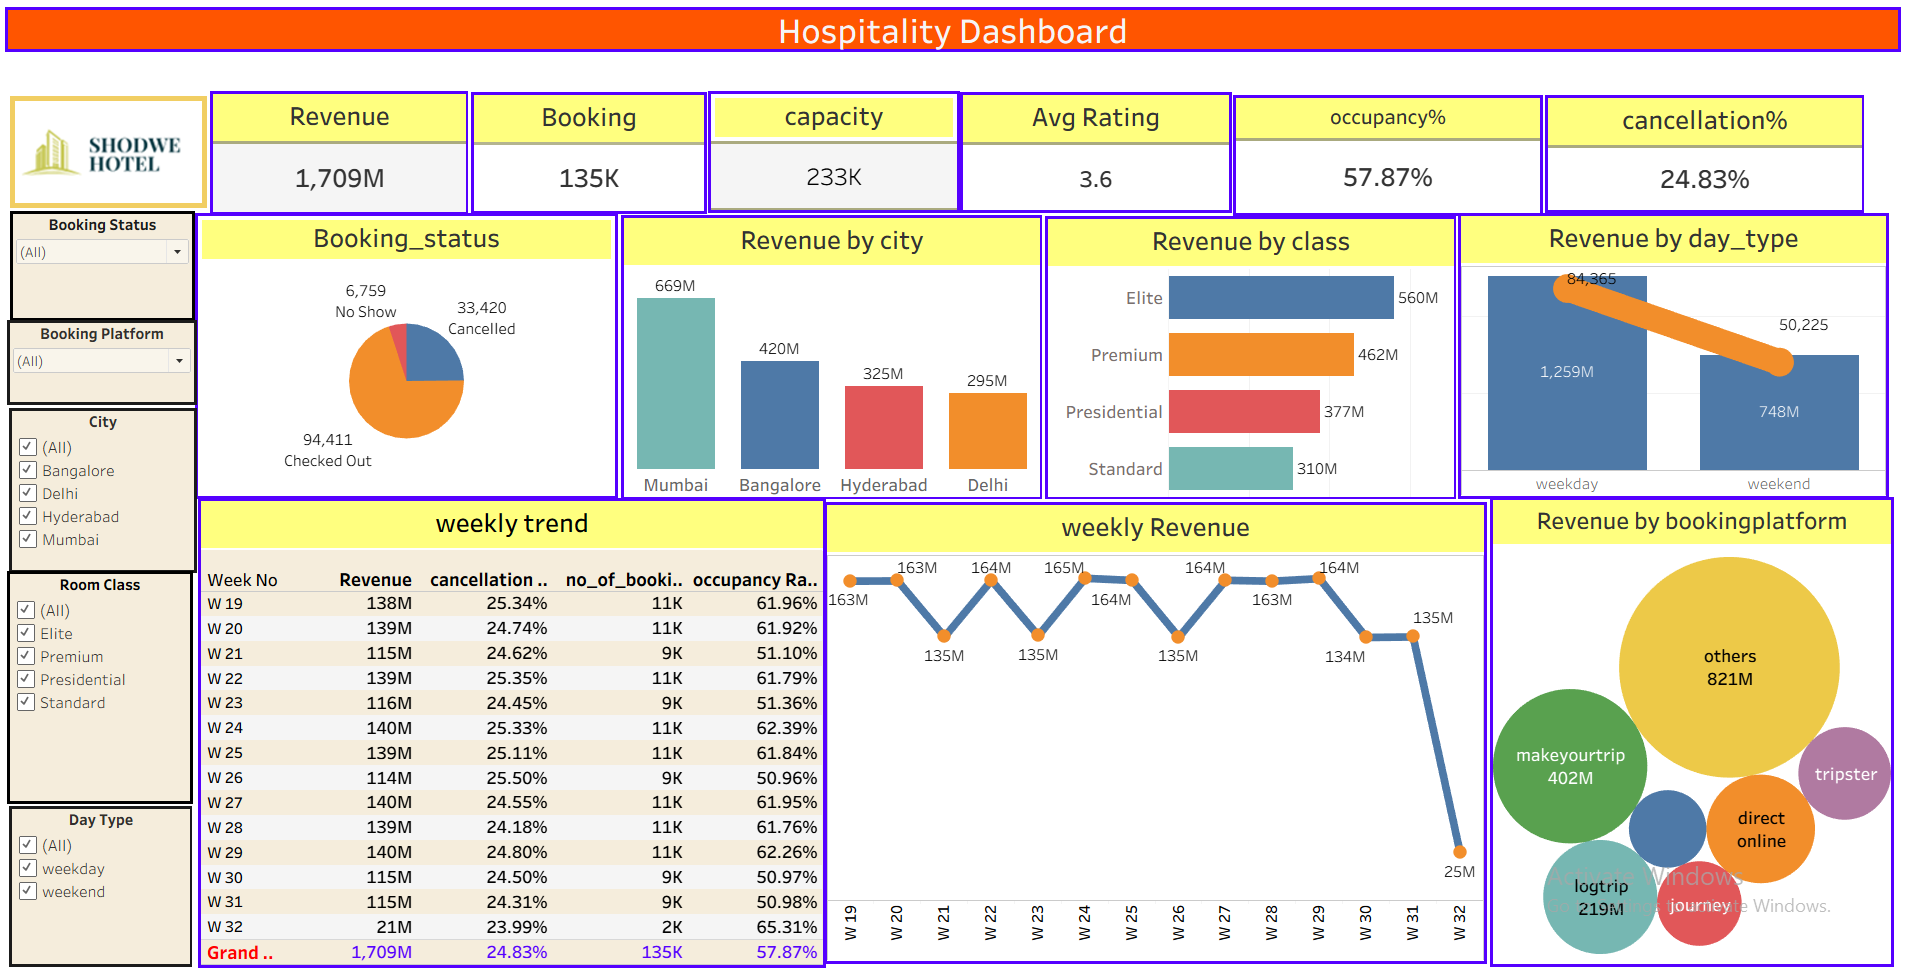

Layout of this report page (visuals, bound fields, positions):
{"tool":"tableau","page":{"name":"Dashboard 1","canvas":[1000,1000],"units":"permille","ordinal":0},"visuals":[{"type":"title","box":[5,10.7,990,84.5]},{"type":"image","box":[5,95.2,990,894.1]},{"type":"worksheet","title":"Revenue","mark":"Text","box":[112.8,96.5,134.7,124.7]},{"type":"worksheet","title":"capacity","mark":"Text","box":[372.4,96.5,131.2,123.3]},{"type":"worksheet","title":"Booking","mark":"Text","box":[249.1,97.9,123,123.3]},{"type":"worksheet","title":"Avg Rating","mark":"Text","box":[503.5,97.9,141.8,122]},{"type":"worksheet","title":"occupancy%","mark":"Automatic","box":[646,100.5,161.5,122]},{"type":"worksheet","title":"cancellation%","mark":"Text","box":[808.2,100.5,166.4,119.3]},{"type":"image","param":"Image/Picture1.png","box":[8.8,101.9,102.5,112.6]},{"type":"filter","title":"Booking_status","param":"[federated.0kp501o1j3tpmw1h6ecsv15nl3r8].[none:booking_status:nk]","box":[8.8,217.2,96.2,111.3]},{"type":"worksheet","title":"Booking_status","mark":"Pie","box":[105.4,219.8,220.2,288.2]},{"type":"worksheet","title":"Revenue by day_type","mark":"Bar","rows":["revenue_generated","booking_id"],"cols":["day_type"],"box":[762.9,219.8,224.6,288.2]},{"type":"worksheet","title":"Revenue by city","mark":"Automatic","rows":["revenue_realized"],"cols":["city"],"box":[326.9,221.2,219.6,286.9]},{"type":"worksheet","title":"Revenue by class","mark":"Automatic","rows":["room_class"],"cols":["revenue_realized"],"box":[547.7,222.5,214.6,285.5]},{"type":"filter","title":"Revenue by bookingplatform","param":"[federated.0kp501o1j3tpmw1h6ecsv15nl3r8].[none:booking_platform:nk]","box":[7.5,327.1,98.8,85.8]},{"type":"filter","title":"Revenue by city","param":"[federated.0kp501o1j3tpmw1h6ecsv15nl3r8].[none:city:nk]","box":[8.1,415.6,98.1,166.2]},{"type":"worksheet","title":"Revenue by bookingplatform","mark":"Circle","box":[779.8,505.4,210.3,473.2]},{"type":"worksheet","title":"weekly trend","mark":"Automatic","rows":["week no"],"box":[106.7,506.7,326.9,473.2]},{"type":"worksheet","title":"weekly Revenue","mark":"Line","rows":["revenue_generated","revenue_generated"],"cols":["week no"],"box":[433,510.7,345.5,465.2]},{"type":"filter","title":"Revenue by class","param":"[federated.0kp501o1j3tpmw1h6ecsv15nl3r8].[none:room_class:nk]","box":[7.5,580.4,96.9,234.6]},{"type":"filter","title":"Revenue by day_type","param":"[federated.0kp501o1j3tpmw1h6ecsv15nl3r8].[none:day_type:nk]","box":[8.1,816.4,95.6,162.2]}]}

Visuals, with their boxes on the dashboard's canvas, which has no fixed pixel size, in thousandths of its width and height (x1, y1, x2, y2). These are canvas units, not pixel positions in the 1905x973 screenshot, which may show the page scaled, cropped or inside an application window:
title: bbox=[5, 11, 995, 95]
image: bbox=[5, 95, 995, 989]
"Revenue" worksheet (Text marks): bbox=[113, 96, 248, 221]
"capacity" worksheet (Text marks): bbox=[372, 96, 504, 220]
"Booking" worksheet (Text marks): bbox=[249, 98, 372, 221]
"Avg Rating" worksheet (Text marks): bbox=[504, 98, 645, 220]
"occupancy%" worksheet: bbox=[646, 100, 808, 222]
"cancellation%" worksheet (Text marks): bbox=[808, 100, 975, 220]
image: bbox=[9, 102, 111, 214]
"Booking_status" filter: bbox=[9, 217, 105, 328]
"Booking_status" worksheet (Pie marks): bbox=[105, 220, 326, 508]
"Revenue by day_type" worksheet (Bar marks): bbox=[763, 220, 988, 508]
"Revenue by city" worksheet: bbox=[327, 221, 546, 508]
"Revenue by class" worksheet: bbox=[548, 222, 762, 508]
"Revenue by bookingplatform" filter: bbox=[8, 327, 106, 413]
"Revenue by city" filter: bbox=[8, 416, 106, 582]
"Revenue by bookingplatform" worksheet (Circle marks): bbox=[780, 505, 990, 979]
"weekly trend" worksheet: bbox=[107, 507, 434, 980]
"weekly Revenue" worksheet (Line marks): bbox=[433, 511, 778, 976]
"Revenue by class" filter: bbox=[8, 580, 104, 815]
"Revenue by day_type" filter: bbox=[8, 816, 104, 979]
